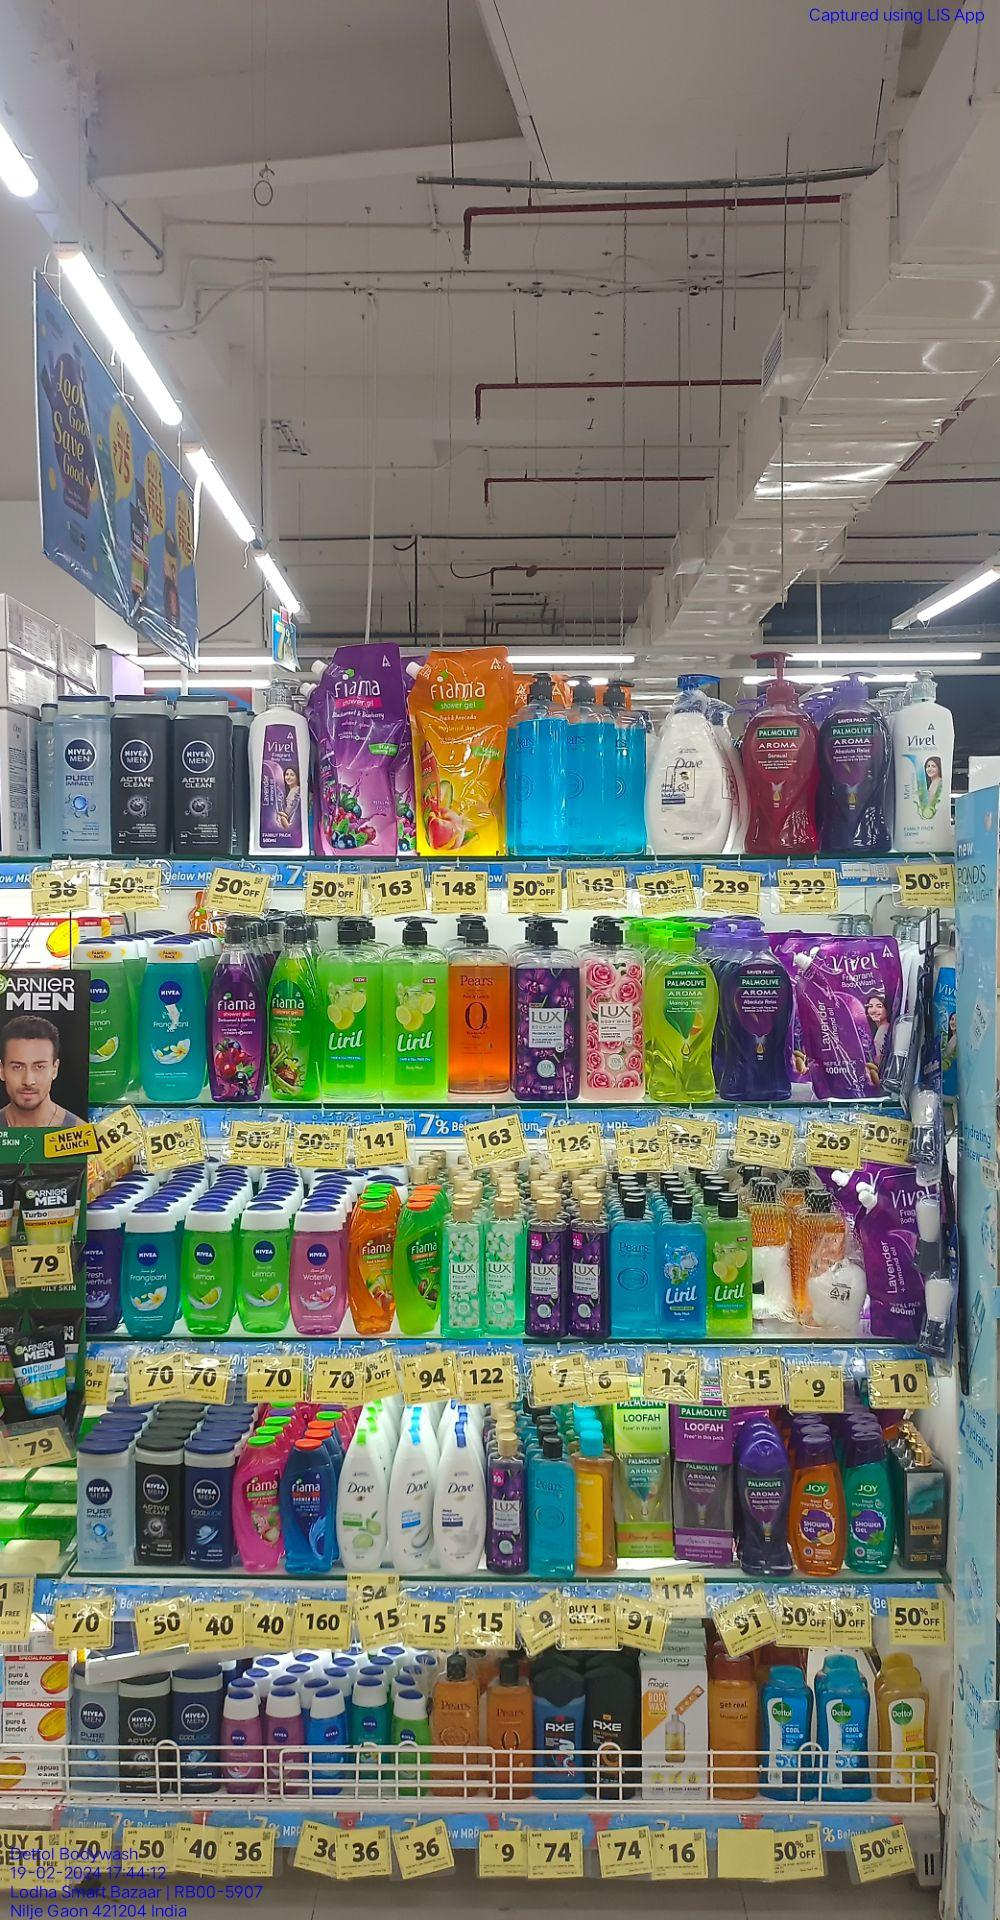Dettol_Bodywash_Cool: (759, 1665, 813, 1804), (816, 1667, 868, 1801)
Dettol_Bodywash_Refresh: (874, 1667, 930, 1803)
Dove_Deep_Moisture_Body_Wash_250ML: (437, 1430, 481, 1571)
Dove_Gentle_Exfoliating_Body_Wash_250ML: (392, 1430, 433, 1583)
Dove_Refreshing_Body_Wash_250ML: (334, 1427, 387, 1568)
Fiama_Shower_Gel_Lemongrass_and_Jojoba_250ML: (392, 1196, 438, 1336)
Fiama_Shower_Gel_Patchouli_and_Macadamia_250ML: (231, 1435, 284, 1568)
Fiama_Shower_Gel_Peach_and_Avocado_250ML: (349, 1199, 391, 1336)
Get_Real_Shower_Gel_Moisturising_Glycerin_300ML: (712, 1653, 756, 1801)
Joy_Shower_Gel_Mandarin_and_Lemongrass_250ML: (796, 1429, 844, 1576)
Joy_Shower_Gel_Mint_and_Eucalyptus_250ML: (846, 1432, 895, 1573)
Liril_Cooling_Mint_Body_Wash_250ML: (656, 1199, 704, 1336)
Liril_Lime_and_Tea_Tree_Oil_Body_Wash_250ML: (707, 1196, 754, 1335)
Lux_Black_Orchid_Scent_and_Juniper_Oil_Body_Wash_245ML: (566, 1197, 610, 1340), (487, 1429, 529, 1573), (524, 1199, 563, 1340)
Lux_Body_Wash_Skin_Detox_Freesia_Scent_and_Alove_Vera_245ML: (440, 1196, 482, 1338), (485, 1197, 522, 1336)
Nivea_Shower_Gel_Frangipani_and_Oil_250ML: (137, 936, 207, 1097), (121, 1218, 175, 1336)
Nivea_Shower_Gel_Fresh_Powerfruit_250ML: (84, 1206, 115, 1338)
Nivea_Shower_Gel_Lemon_and_Oil_250ML: (232, 1204, 288, 1333), (181, 1217, 231, 1336)
Nivea_Shower_Gel_Waterlily_and_Oil_250ML: (291, 1213, 344, 1336)
Palmolive_Aroma_Relax_250ML: (734, 1431, 792, 1575)
Pears_Pure_Glycerin_and_Mint_Extracts_Body_Wash_250ML: (533, 1432, 576, 1572), (610, 1196, 654, 1333)
